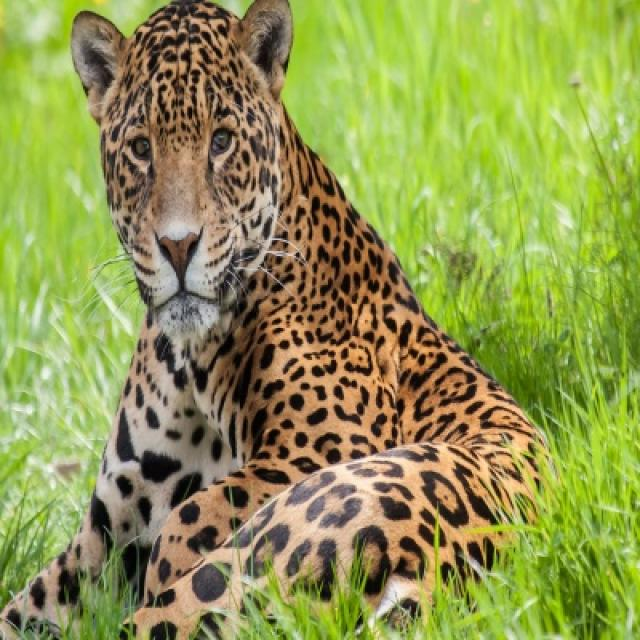Jaguar: (2, 0, 549, 638)
